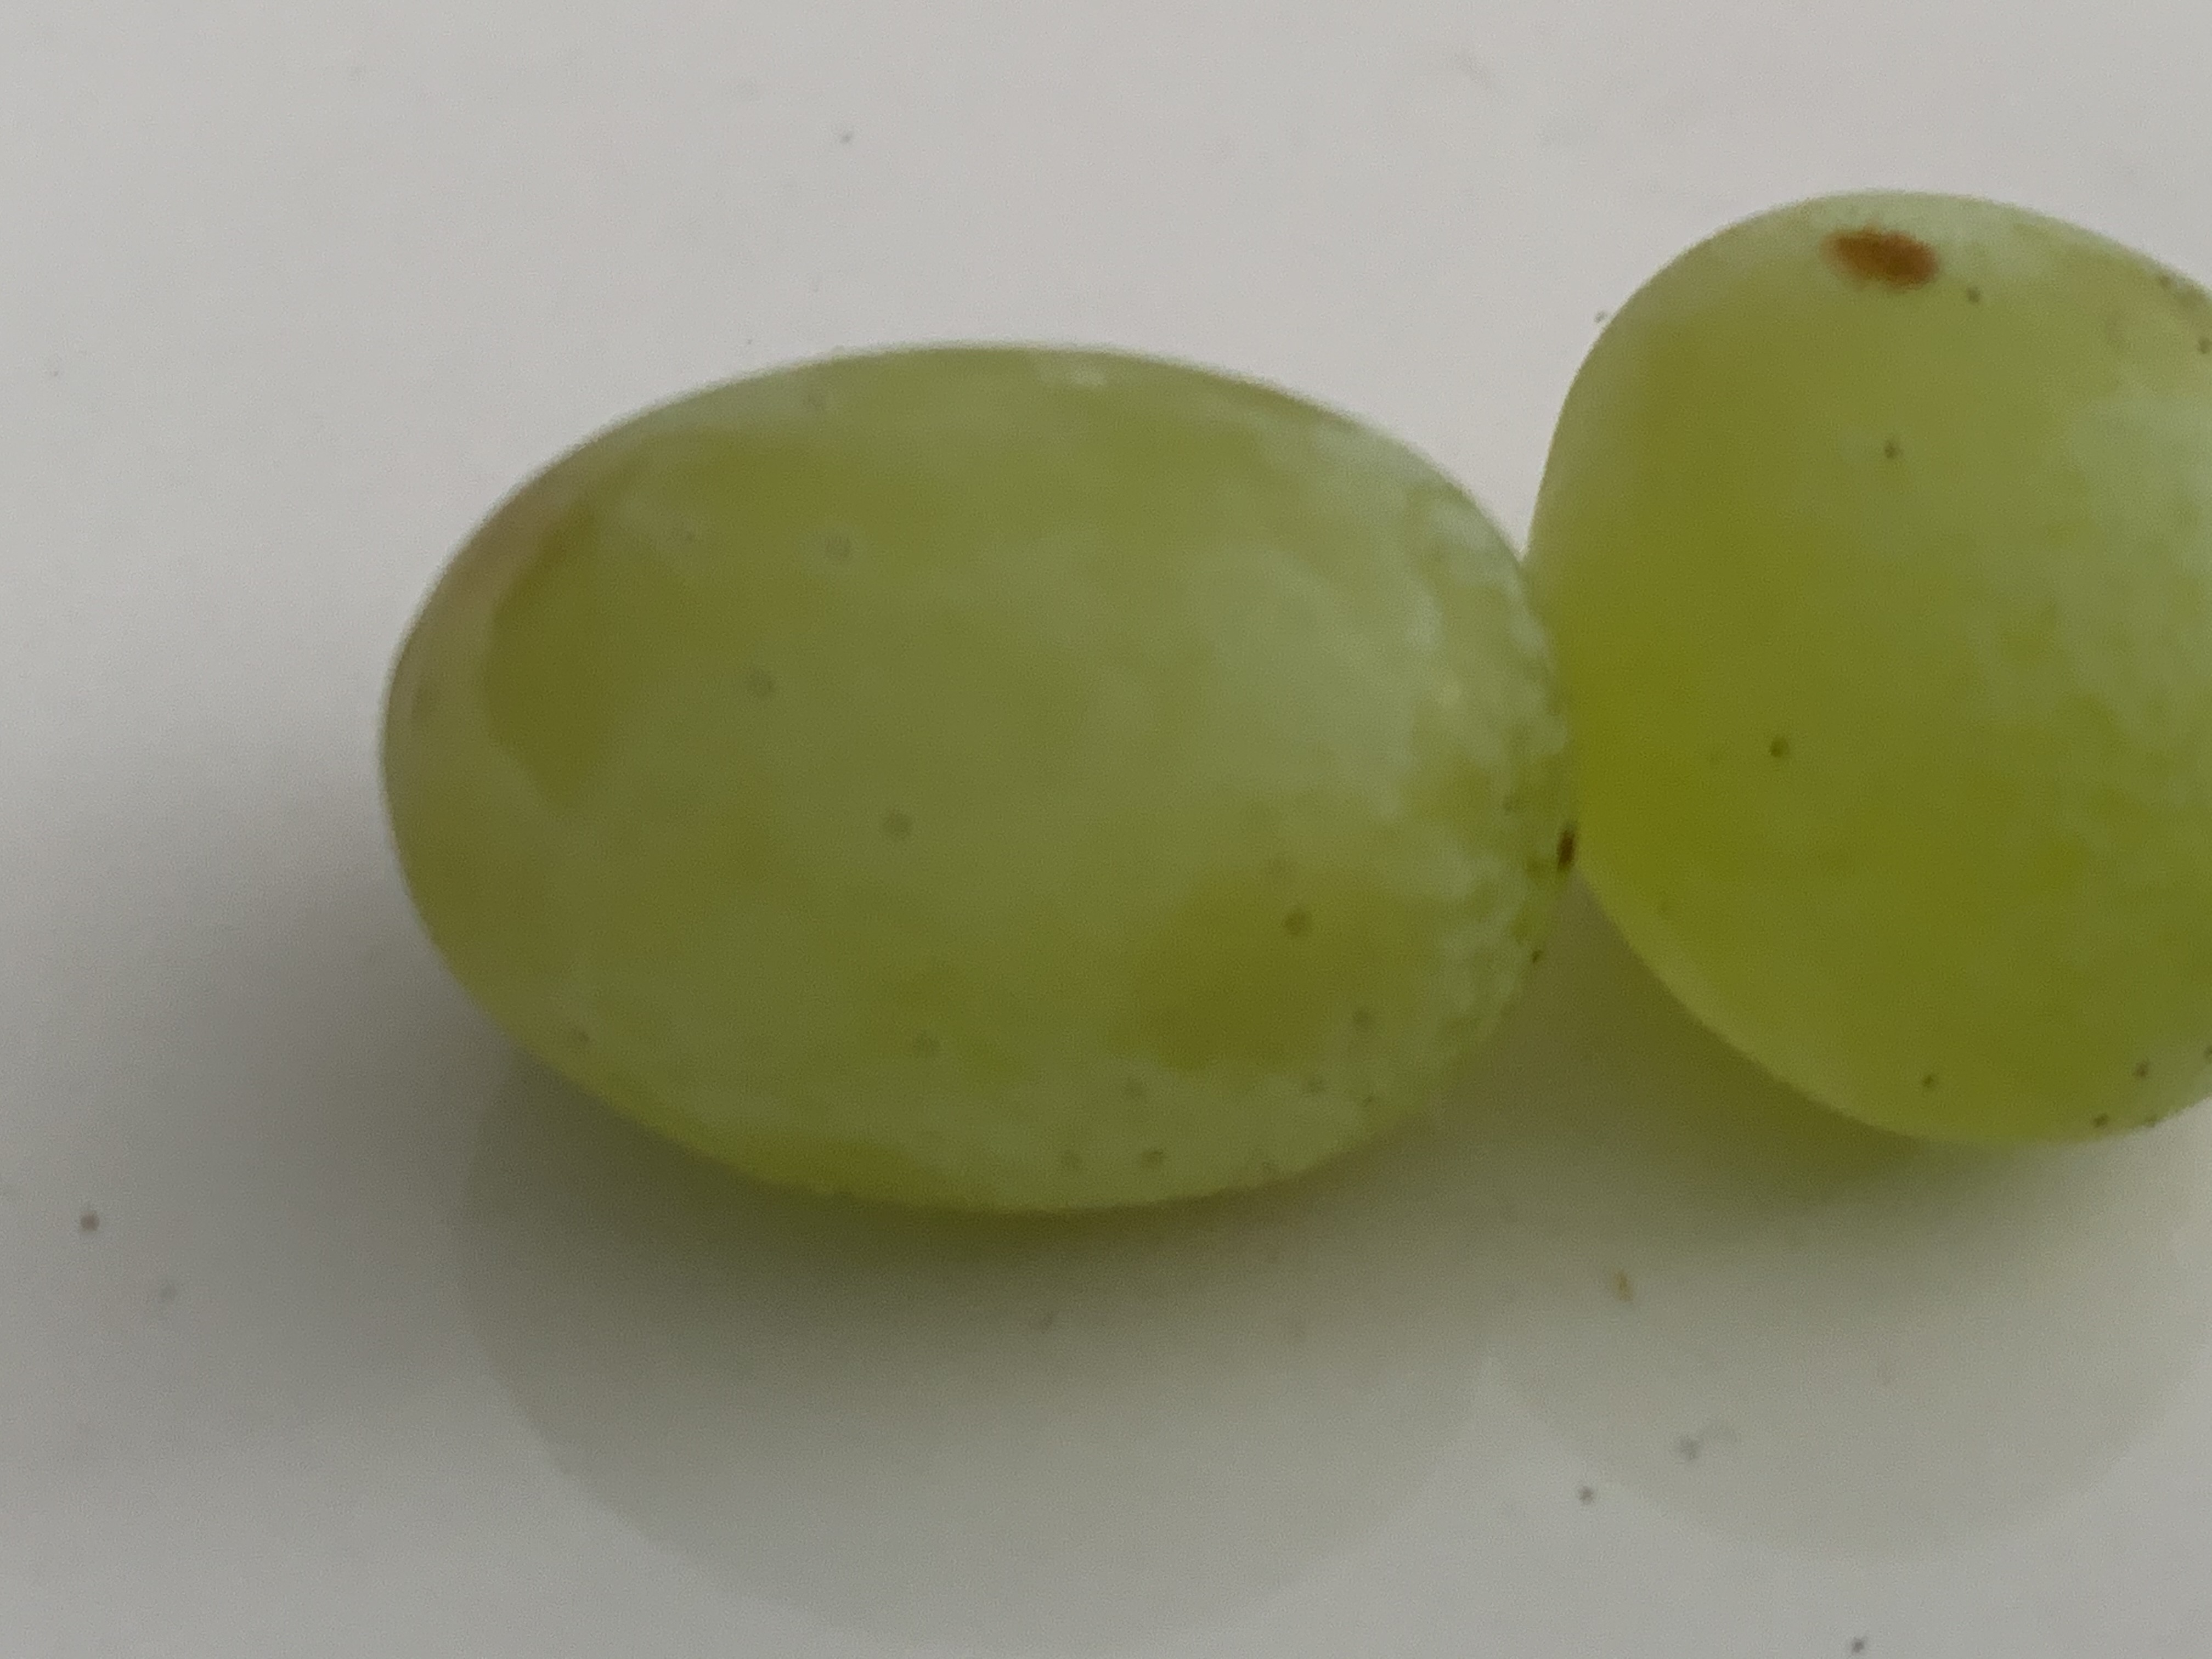grapes: (394, 342, 1588, 1192), (1533, 200, 2212, 1131)
